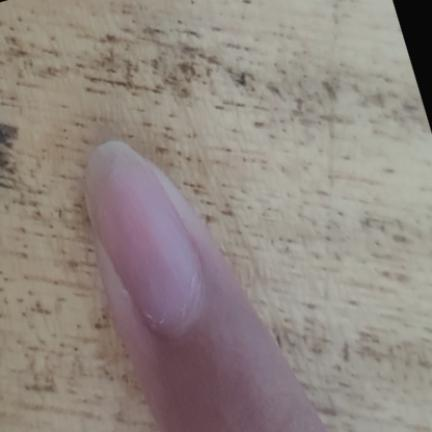Nail: (84, 141, 207, 341)
